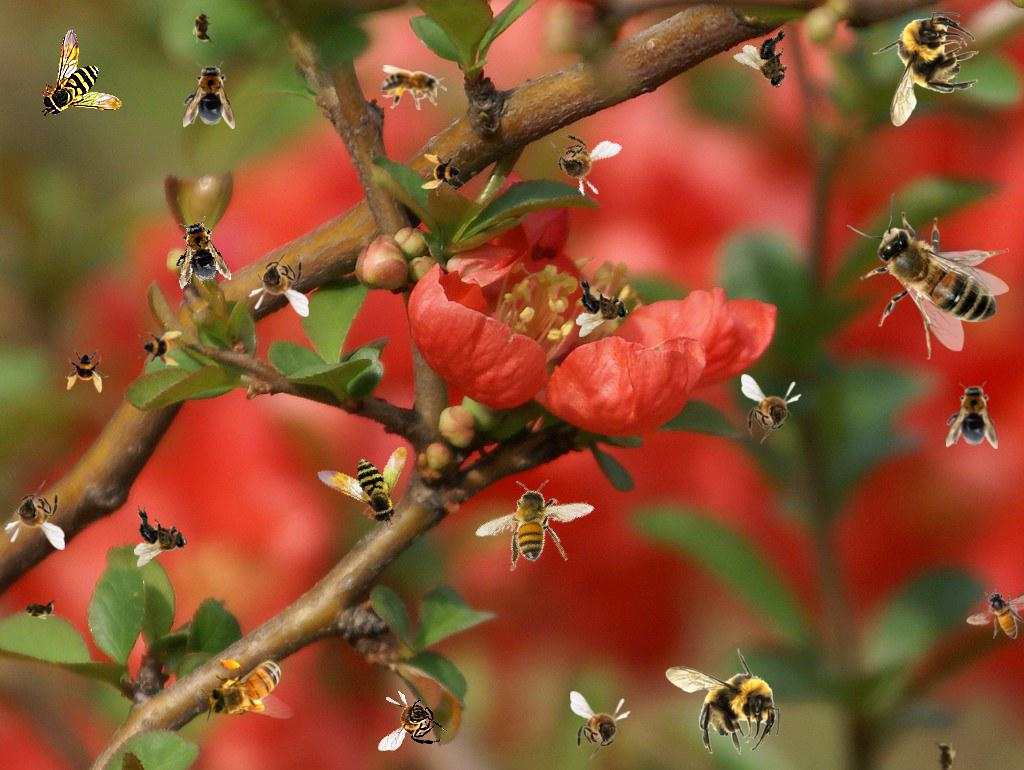Bee: (847, 193, 1009, 360), (464, 452, 611, 596), (665, 648, 780, 755), (872, 12, 979, 127), (307, 424, 417, 530), (40, 29, 122, 117), (536, 122, 623, 204), (201, 655, 294, 723), (731, 22, 812, 100), (166, 213, 232, 291), (248, 247, 309, 317), (741, 374, 802, 444), (378, 690, 448, 751), (4, 480, 65, 550), (570, 691, 631, 761), (946, 381, 998, 449), (183, 61, 235, 129), (576, 275, 629, 337), (134, 505, 187, 567), (381, 65, 447, 110), (966, 589, 1024, 639), (65, 349, 109, 393), (138, 324, 182, 368), (421, 152, 465, 196), (192, 7, 214, 47), (19, 598, 59, 620), (934, 738, 956, 770)
